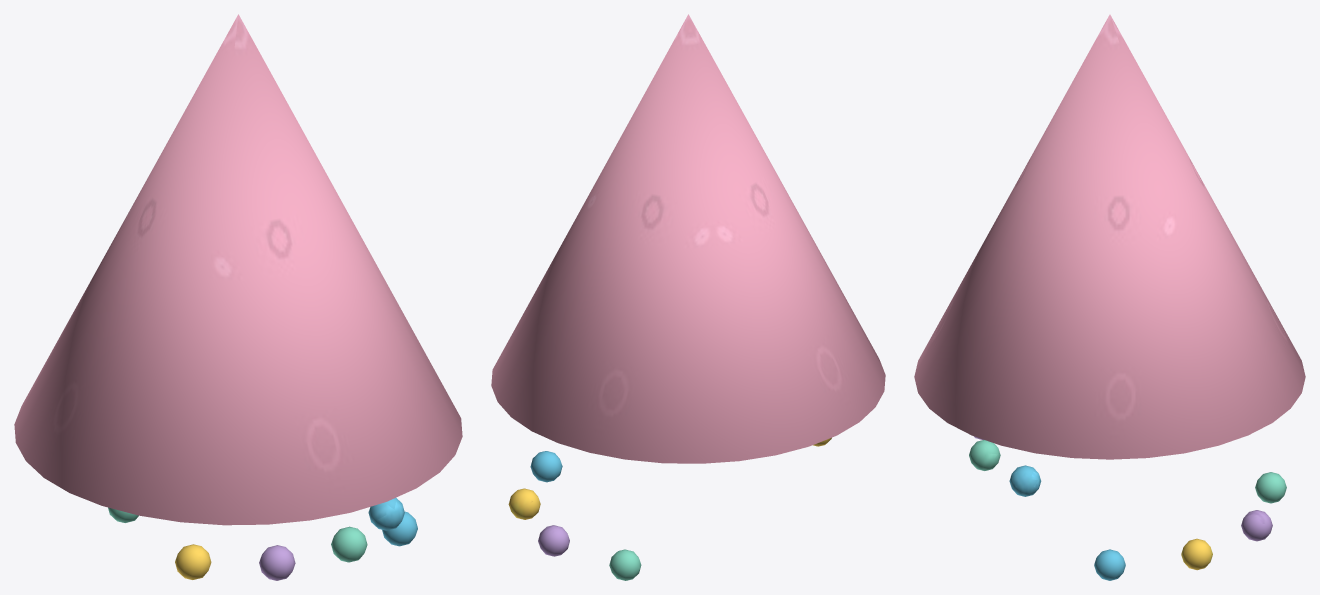
File: gorro_fiesta.obj
3 views of the same model, side by side, from view 1: azimuth 30°, elevation 25°; view 2: azimuth 150°, elevation 25°; view 3: azimuth 270°, elevation 25° (orthographic). The views are drawn at different scales.
Visible parts, largest first — view 1: gorro_fiesta; view 2: gorro_fiesta; view 3: gorro_fiesta.
Part boxes in pixels (x1,y1,x2,y2): gorro_fiesta: [14, 14, 462, 580]; gorro_fiesta: [491, 14, 885, 580]; gorro_fiesta: [914, 14, 1305, 580].
Bounding box in the file's own units: 0.86 × 1.21 × 0.86.
Materials: 5 (5 with a texture image).
